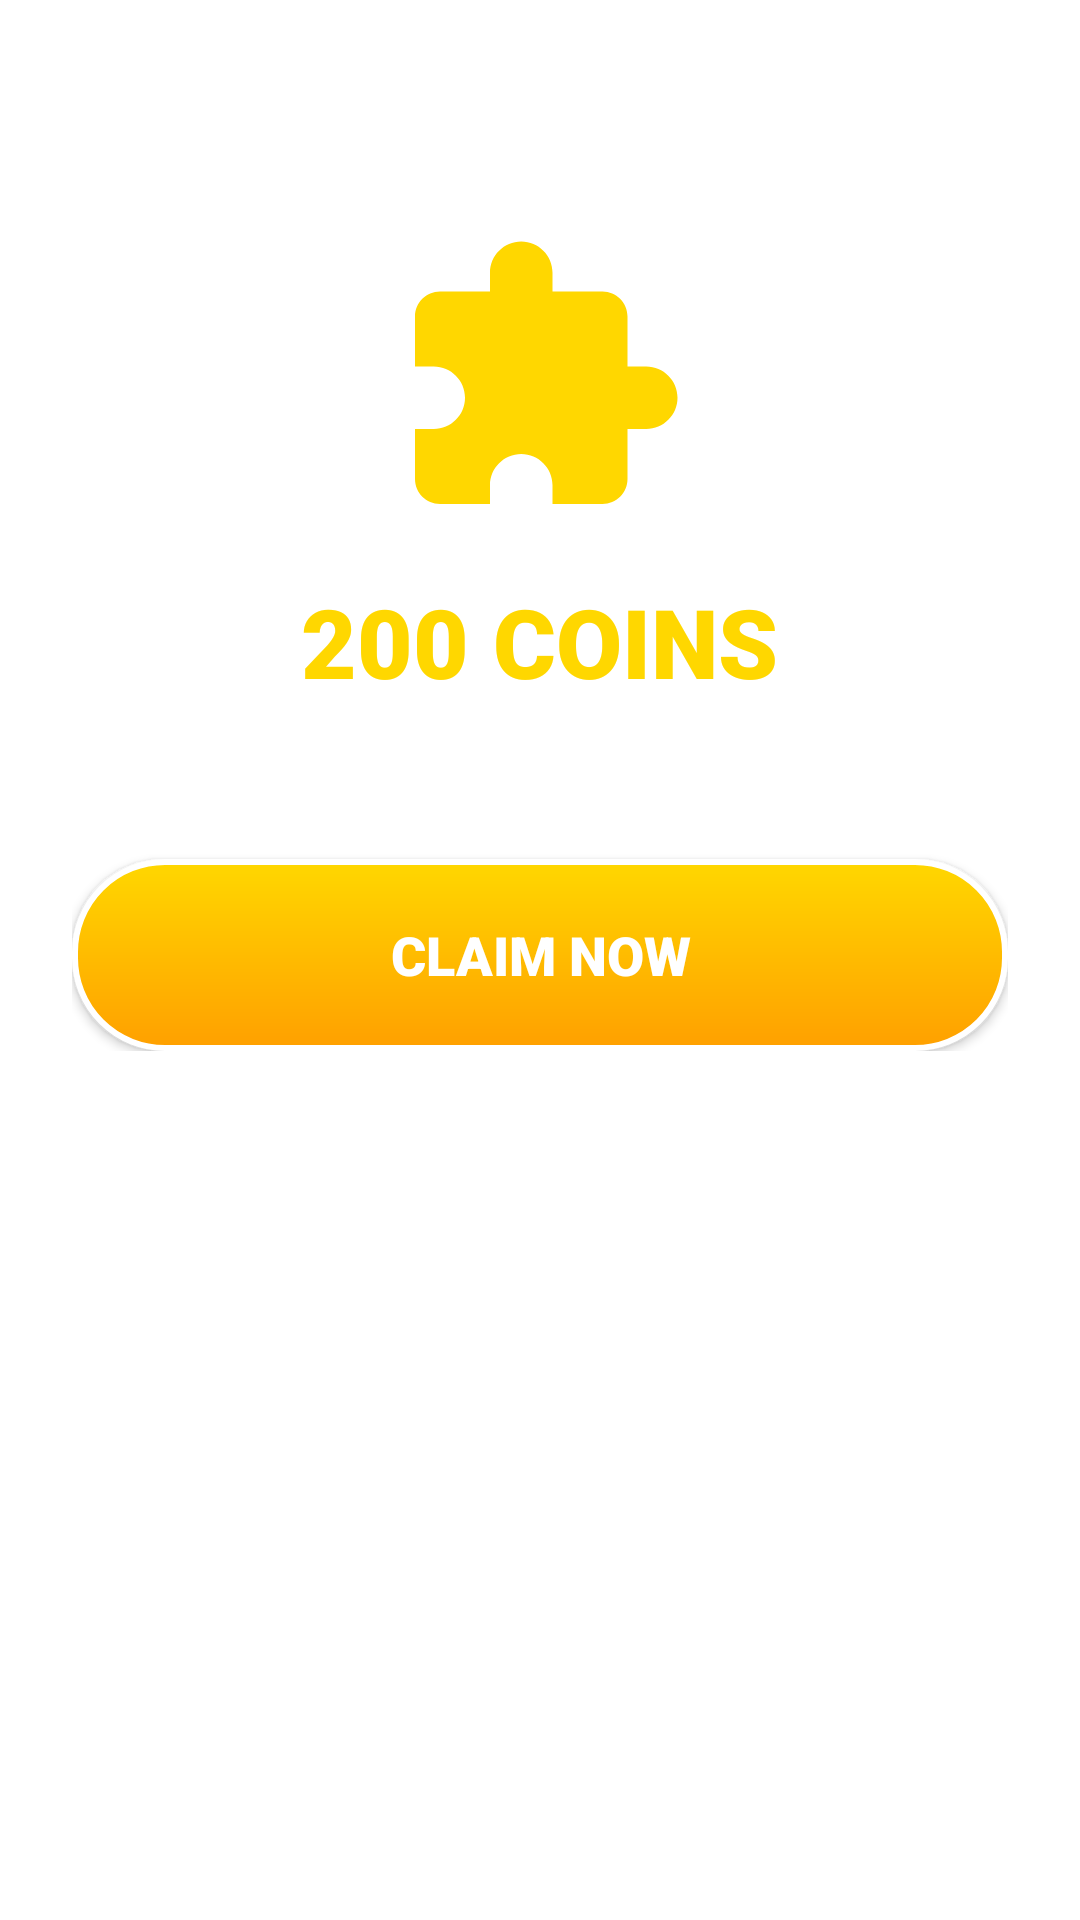

Screen size 1080 × 1920. Icon name, then its box in pixels as (x1, y1, x2, y2):
puzzle: (415, 241, 678, 504)
